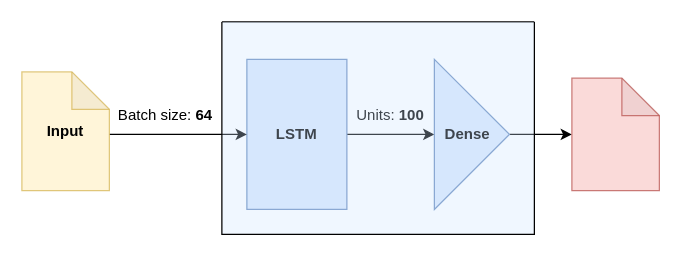
This 681x256 diagram has some shape labels left out. Each missing label, with the box of its shape:
Model: (221, 21, 534, 234)
Predictions: (571, 77, 659, 191)
